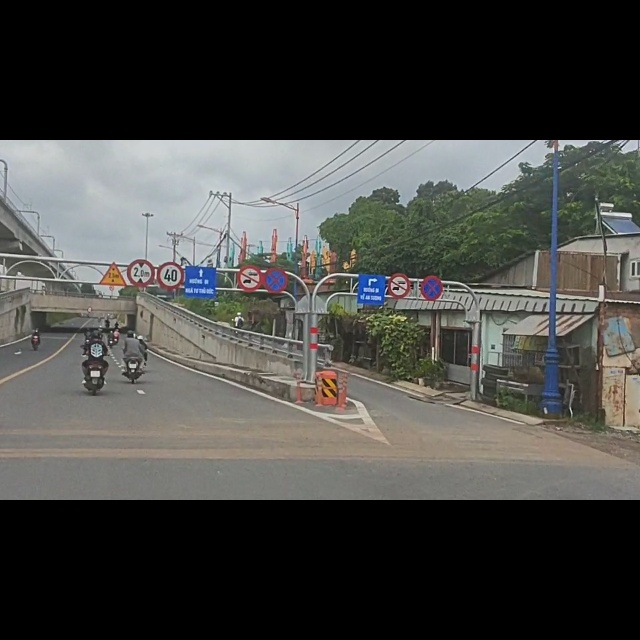bien_nguy_hiem: (126, 212, 156, 261), (158, 216, 185, 267), (99, 216, 127, 262), (237, 220, 262, 270), (263, 224, 288, 271), (421, 236, 443, 288), (389, 238, 411, 282)
